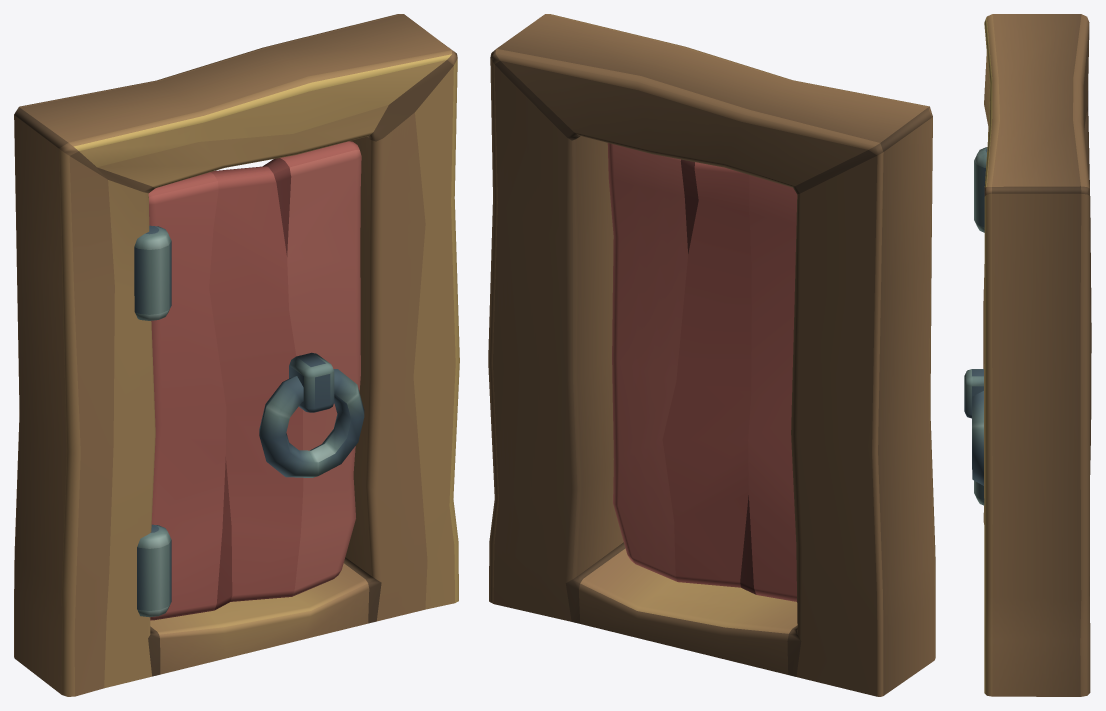
File: tavern_cellar_door.fbx
3 renders of one model, left to right at view 1: azimuth 30°, elevation 25°; view 2: azimuth 150°, elevation 25°; view 3: azimuth 270°, elevation 25°, orthographic. The views are drawn at different scales.
Parts seen in each view (by area): view 1: tavern_cellar_door_frame_LOD0, tavern_cellar_door_LOD0; view 2: tavern_cellar_door_frame_LOD0, tavern_cellar_door_LOD0; view 3: tavern_cellar_door_frame_LOD0, tavern_cellar_door_LOD0.
Part boxes in pixels (x1,y1,x2,y2): tavern_cellar_door_frame_LOD0: [14, 14, 459, 696]; tavern_cellar_door_LOD0: [148, 141, 364, 620]; tavern_cellar_door_frame_LOD0: [488, 14, 935, 696]; tavern_cellar_door_LOD0: [607, 143, 797, 601]; tavern_cellar_door_frame_LOD0: [974, 14, 1091, 696]; tavern_cellar_door_LOD0: [964, 369, 983, 485].
Size of what is drawn, in the model's own units: 155 by 207 by 46.62.
